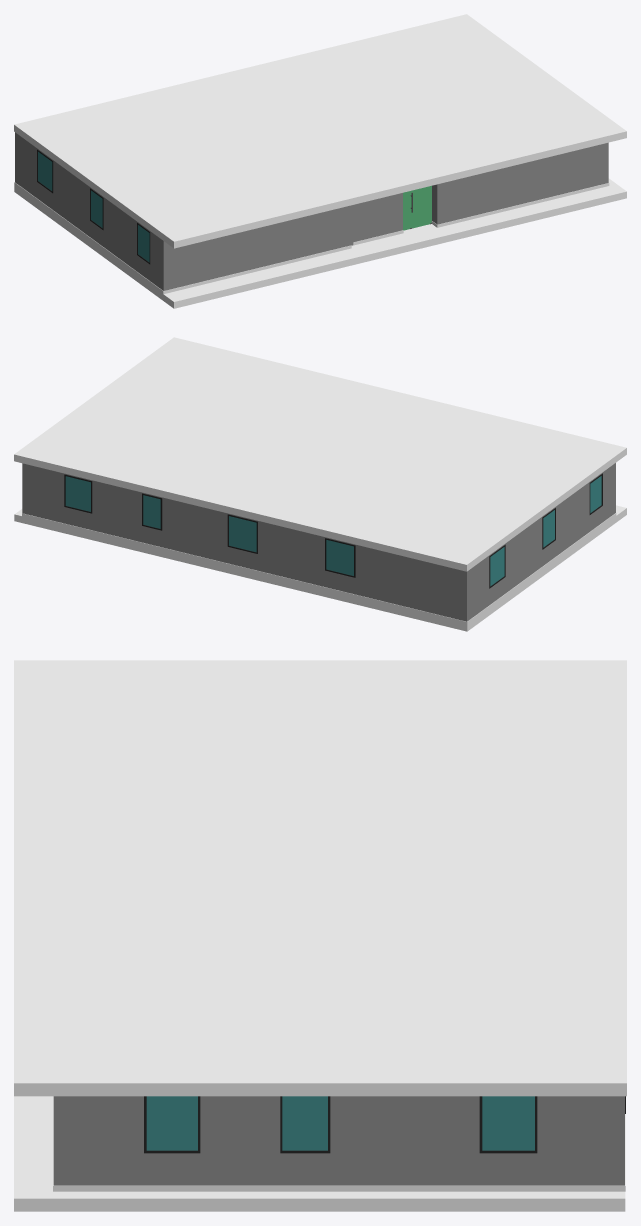
The model's file is MFM.FBX.
The picture shows the model from 3 angles, top to bottom: view 1: azimuth 30°, elevation 25°; view 2: azimuth 150°, elevation 25°; view 3: azimuth 270°, elevation 25°; orthographic projection. The views are drawn at different scales.
Visible parts, largest first — view 1: Techoi, Walls, Piso, Soclo, Cancel_04, Ventana_03, Ventana_01, Ventana_02; view 2: Techoi, Walls, Piso, Soclo, Ventana_04, Ventana_05, Ventana_06, Ventana_011, Ventana_03, Ventana_02, Ventana_01; view 3: Techoi, Walls, Piso, Soclo, Ventana_07, Ventana_08, Ventana_010.
Part boxes in pixels (box(x1,y1,x2,y2)): Techoi: box(14, 14, 626, 248); Walls: box(15, 132, 608, 290); Piso: box(14, 178, 626, 308); Soclo: box(14, 182, 609, 294); Cancel_04: box(410, 185, 431, 228); Ventana_03: box(37, 149, 53, 193); Ventana_01: box(137, 223, 150, 264); Ventana_02: box(90, 188, 103, 230); Techoi: box(14, 337, 626, 571); Walls: box(22, 463, 615, 621); Piso: box(14, 505, 626, 631); Soclo: box(22, 513, 616, 624); Ventana_04: box(325, 538, 355, 577); Ventana_05: box(227, 514, 257, 553); Ventana_06: box(64, 474, 92, 513); Ventana_011: box(142, 493, 162, 530); Ventana_03: box(489, 544, 505, 588); Ventana_02: box(542, 508, 555, 549); Ventana_01: box(589, 473, 602, 514); Techoi: box(14, 660, 626, 1096); Walls: box(53, 1096, 624, 1185); Piso: box(14, 1096, 625, 1211); Soclo: box(53, 1096, 625, 1191); Ventana_07: box(479, 1096, 537, 1153); Ventana_08: box(144, 1096, 200, 1153); Ventana_010: box(280, 1096, 330, 1153).
Size of the model in its own units: 2395 by 339 by 1466.
